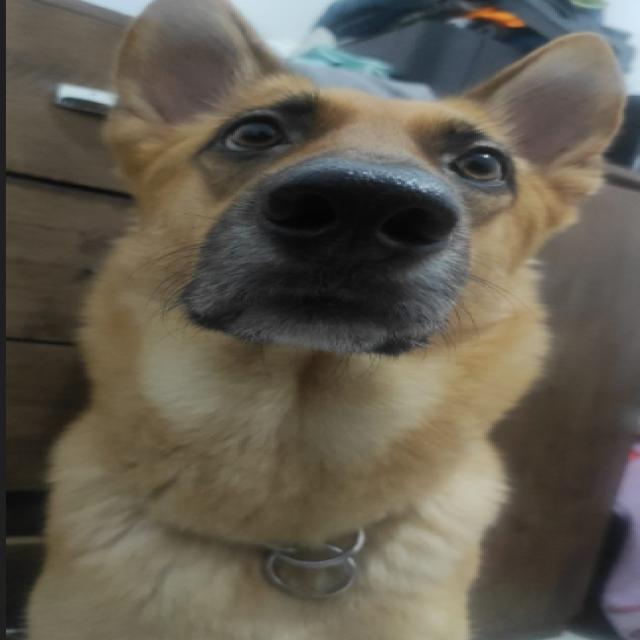cachorro: (18, 3, 631, 640)
